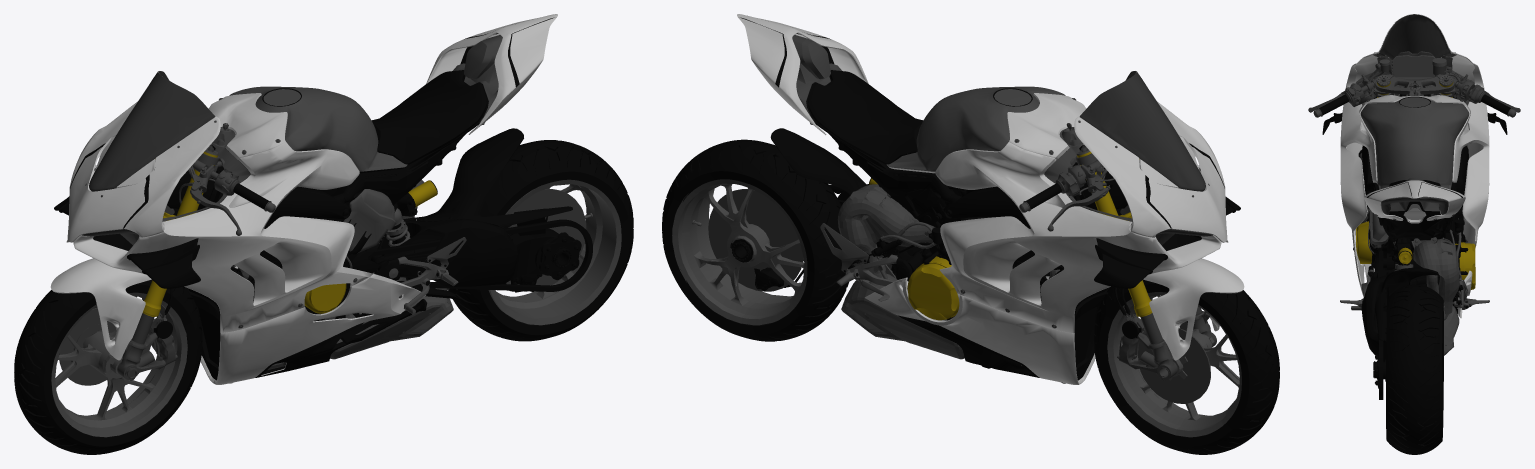
The picture shows the model from 3 angles, left to right: view 1: azimuth 30°, elevation 25°; view 2: azimuth 150°, elevation 25°; view 3: azimuth 270°, elevation 25°; orthographic projection. The views are drawn at different scales.
Visible parts, largest first — view 1: Object_13, Object_10, Object_21, Object_5, Object_4, Object_25, Object_22, Object_23, Object_3, Object_18, Object_12, Object_17 (+6 smaller); view 2: Object_13, Object_21, Object_4, Object_10, Object_5, Object_22, Object_23, Object_17, Object_3, Object_25, Object_19, Object_12 (+6 smaller); view 3: Object_13, Object_4, Object_23, Object_10, Object_22, Object_16, Object_25, Object_19, Object_18, Object_26, Object_6, Object_20 (+3 smaller).
Part boxes in pixels (<box>): Object_13: <box>50,14,557,384</box>; Object_10: <box>93,33,581,380</box>; Object_21: <box>51,179,621,437</box>; Object_5: <box>14,279,202,454</box>; Object_4: <box>448,140,633,341</box>; Object_25: <box>153,74,572,338</box>; Object_22: <box>81,71,215,344</box>; Object_23: <box>229,86,407,171</box>; Object_3: <box>371,70,486,163</box>; Object_18: <box>205,127,466,320</box>; Object_12: <box>54,196,363,377</box>; Object_17: <box>59,188,586,385</box>; Object_13: <box>737,14,1244,384</box>; Object_21: <box>672,179,1241,437</box>; Object_4: <box>662,139,850,341</box>; Object_10: <box>730,33,1201,380</box>; Object_5: <box>1094,279,1279,454</box>; Object_22: <box>1079,71,1212,344</box>; Object_23: <box>887,86,1065,171</box>; Object_17: <box>708,189,1210,403</box>; Object_3: <box>808,70,923,163</box>; Object_25: <box>770,74,1141,338</box>; Object_19: <box>837,184,1059,302</box>; Object_12: <box>898,197,1240,383</box>; Object_13: <box>1340,51,1489,318</box>; Object_4: <box>1386,284,1443,454</box>; Object_23: <box>1360,96,1469,189</box>; Object_10: <box>1358,86,1468,388</box>; Object_22: <box>1373,14,1456,214</box>; Object_16: <box>1308,51,1520,116</box>; Object_25: <box>1366,96,1463,340</box>; Object_19: <box>1393,237,1459,314</box>; Object_18: <box>1313,58,1516,310</box>; Object_26: <box>1356,81,1475,289</box>; Object_6: <box>1319,94,1510,115</box>; Object_20: <box>1444,301,1459,355</box>.
Bounding box in the file's own units: 535 × 302 × 199.
